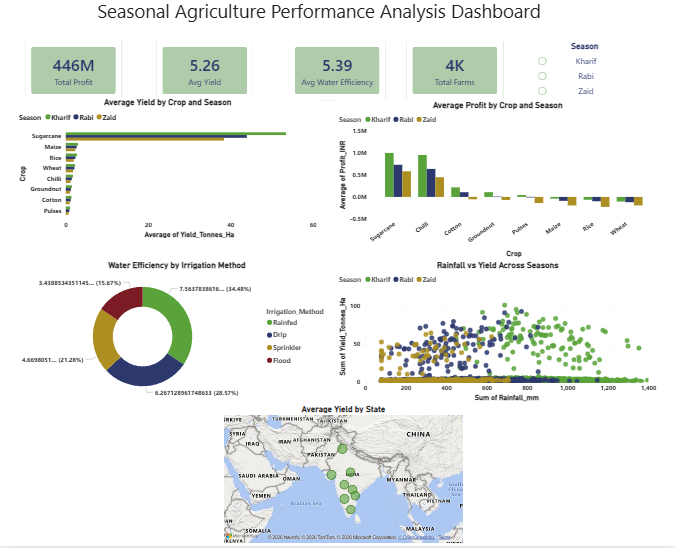

The dashboard page shown, as its layout file describes it:
{"tool":"powerbi","page":{"name":"Page 1","canvas":[1280,720],"ordinal":0},"visuals":[{"type":"cardVisual","fields":{"Data":["seasonal_agriculture_cleaned.Total Profit"]},"box":[52,90,188,158],"z":0},{"type":"cardVisual","fields":{"Data":["seasonal_agriculture_cleaned.Avg Yield"]},"box":[334,106,188,158],"z":1000},{"type":"cardVisual","fields":{"Data":["seasonal_agriculture_cleaned.Avg Water Efficiency"]},"box":[580,106,188,158],"z":2000},{"type":"cardVisual","fields":{"Data":["seasonal_agriculture_cleaned.Total Farms"]},"box":[812,88,188,158],"z":3000},{"type":"listSlicer","fields":{"Values":["seasonal_agriculture_cleaned.Season"]},"box":[1092,90,188,158],"z":4000},{"type":"clusteredBarChart","fields":{"Series":["seasonal_agriculture_cleaned.Season"],"Y":["Avg(seasonal_agriculture_cleaned.Yield_Tonnes_Ha)"],"Category":["seasonal_agriculture_cleaned.Crop"]},"box":[36,228,714,304],"z":5000},{"type":"map","fields":{"Category":["seasonal_agriculture_cleaned.State"],"Size":["Sum(seasonal_agriculture_cleaned.Yield_Tonnes_Ha)"]},"box":[974,532,306,150],"z":6000},{"type":"scatterChart","fields":{"X":["Sum(seasonal_agriculture_cleaned.Rainfall_mm)"],"Y":["Sum(seasonal_agriculture_cleaned.Yield_Tonnes_Ha)"],"Series":["seasonal_agriculture_cleaned.Season"],"Category":["seasonal_agriculture_cleaned.Farm_ID"]},"box":[428,414,152,306],"z":6001},{"type":"donutChart","fields":{"Category":["seasonal_agriculture_cleaned.Irrigation_Method"],"Y":["Avg(seasonal_agriculture_cleaned.Water_Efficiency_t_per_1000m3)"]},"box":[164,496,150,158],"z":6002},{"type":"textbox","box":[905,0,300,150],"z":6004},{"type":"textbox","box":[0,0,1280,76],"z":6005}]}

Visuals, with their boxes on the page's 1280x720 design canvas (x1, y1, x2, y2). These are canvas units, not pixel positions in the 675x548 screenshot, which may show the page scaled, cropped or inside an application window:
cardVisual - seasonal_agriculture_cleaned.Total Profit: box(52, 90, 240, 248)
cardVisual - seasonal_agriculture_cleaned.Avg Yield: box(334, 106, 522, 264)
cardVisual - seasonal_agriculture_cleaned.Avg Water Efficiency: box(580, 106, 768, 264)
cardVisual - seasonal_agriculture_cleaned.Total Farms: box(812, 88, 1000, 246)
listSlicer - seasonal_agriculture_cleaned.Season: box(1092, 90, 1280, 248)
clusteredBarChart - seasonal_agriculture_cleaned.Season x Avg(seasonal_agriculture_cleaned.Yield_Tonnes_Ha): box(36, 228, 750, 532)
map - seasonal_agriculture_cleaned.State x Sum(seasonal_agriculture_cleaned.Yield_Tonnes_Ha): box(974, 532, 1280, 682)
scatterChart - Sum(seasonal_agriculture_cleaned.Rainfall_mm) x Sum(seasonal_agriculture_cleaned.Yield_Tonnes_Ha): box(428, 414, 580, 720)
donutChart - seasonal_agriculture_cleaned.Irrigation_Method x Avg(seasonal_agriculture_cleaned.Water_Efficiency_t_per_1000m3): box(164, 496, 314, 654)
textbox: box(905, 0, 1205, 150)
textbox: box(0, 0, 1280, 76)
